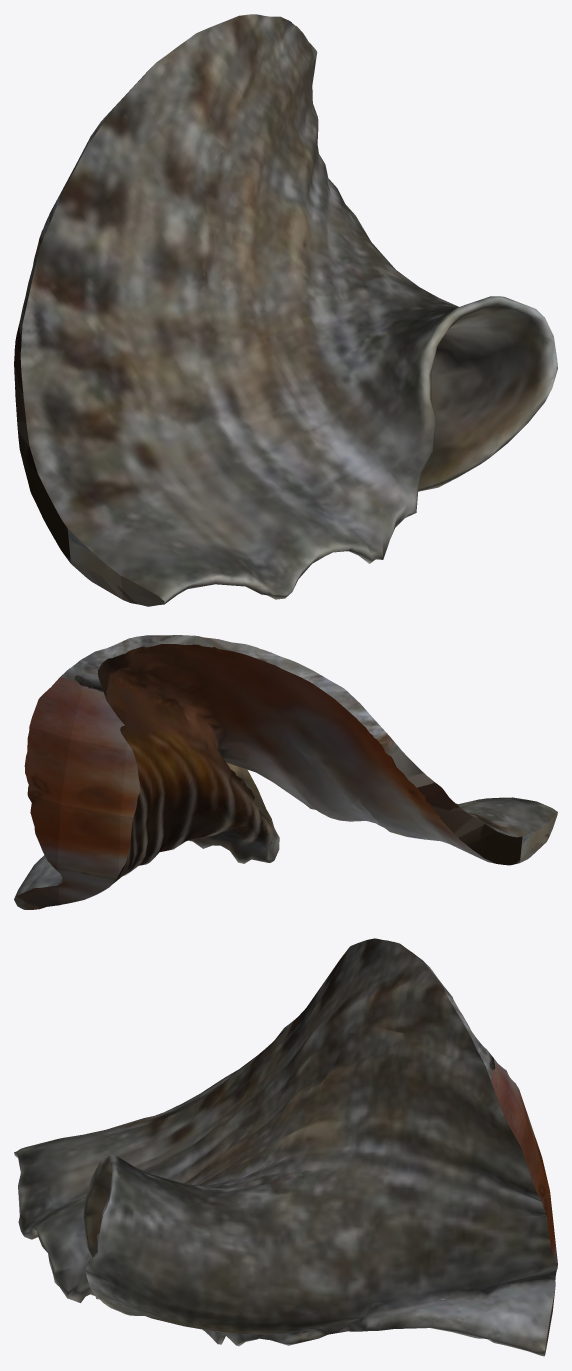
Rendered from muschel_2.glb.
3 views of the same model, one above another, from view 1: azimuth 30°, elevation 25°; view 2: azimuth 150°, elevation 25°; view 3: azimuth 270°, elevation 25° (orthographic). The views are drawn at different scales.
Parts seen in each view (by area): view 1: Mesh_0.003; view 2: Mesh_0.003; view 3: Mesh_0.003.
Boxes of the visible parts, box(x1,y1,x2,y2) form: Mesh_0.003: box(14, 14, 557, 606); Mesh_0.003: box(14, 635, 557, 909); Mesh_0.003: box(14, 938, 557, 1356).
Size of the model in its own units: 0.5795 by 0.4711 by 0.6425.
1 material, 1 textured.
